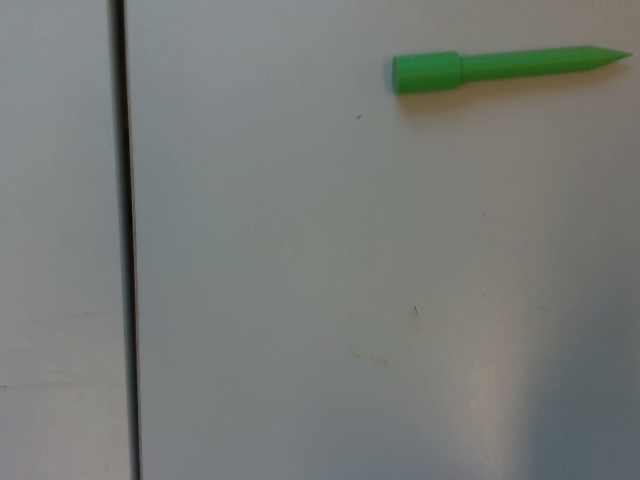Probe: (388, 41, 640, 99)
